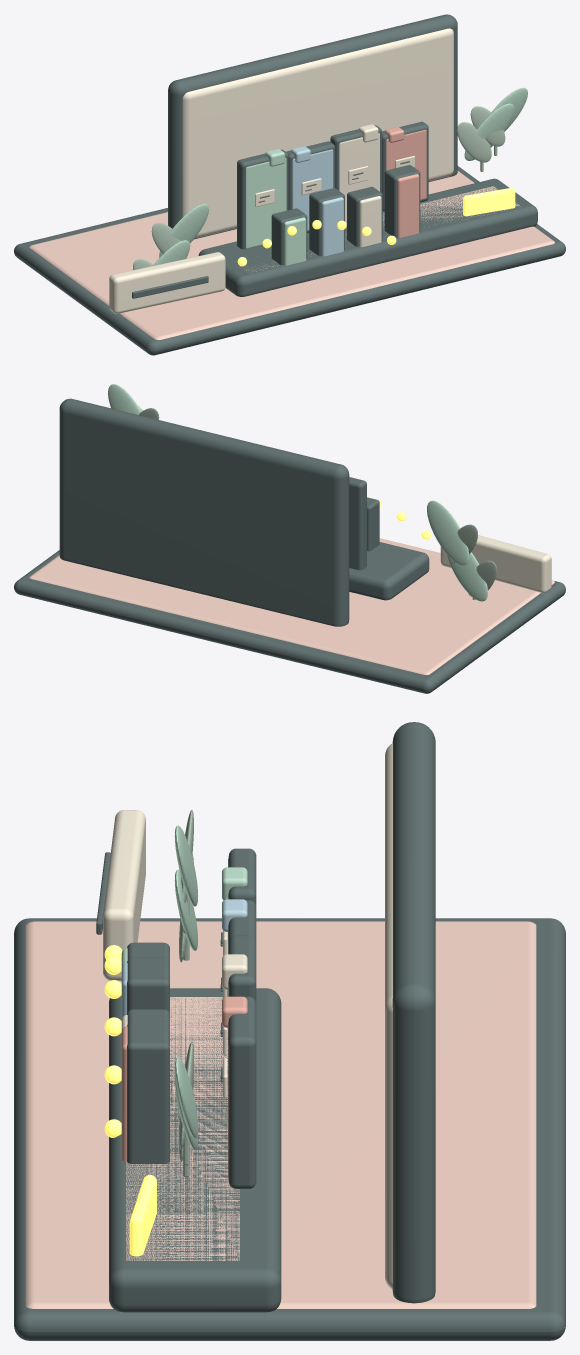
Rendered from hero-memory-terrarium.glb.
3 views of the same model, one above another, from view 1: azimuth 30°, elevation 25°; view 2: azimuth 150°, elevation 25°; view 3: azimuth 270°, elevation 25° (orthographic). The views are drawn at different scales.
Parts seen in each view (by area): view 1: hero back wall, hero peach slab, hero lower tray outline, hero peach slab outline, hero back wall outline, hero command card, hero memory card 0 folder, hero memory card 2 folder, hero memory card 1 folder, hero front file 3, hero memory card 3 folder, hero front file 1 (+20 smaller); view 2: hero back wall outline, hero peach slab, hero peach slab outline, hero lower tray outline, hero command card, hero memory card 0 outline, hero paper leaf 2a, hero paper leaf 3a, hero front file 0 outline, hero paper leaf 1a, hero paper leaf 3b, hero paper leaf 2b; view 3: hero peach slab, hero peach slab outline, hero lower tray outline, hero back wall outline, hero lower tray, hero front file 3 outline, hero memory card 3 outline, hero command card, hero back wall, hero front file 1 outline, hero AGENTS key tag, hero memory card 2 outline (+5 smaller).
Boxes of the visible parts, x1,y1,x2,y2 form: hero back wall: (182,28,453,238); hero peach slab: (29,171,554,339); hero lower tray outline: (198,178,537,296); hero peach slab outline: (14,166,565,355); hero back wall outline: (168,14,457,239); hero command card: (109,252,225,313); hero memory card 0 folder: (246,157,286,248); hero memory card 2 folder: (339,133,379,224); hero memory card 1 folder: (292,149,333,230); hero front file 3: (397,174,419,237); hero memory card 3 folder: (386,129,426,199); hero front file 1: (321,197,343,256); hero back wall outline: (59,398,349,626); hero peach slab: (29,538,554,674); hero peach slab outline: (14,550,565,693); hero lower tray outline: (349,542,429,600); hero command card: (440,535,551,593); hero memory card 0 outline: (349,477,366,570); hero paper leaf 2a: (427,500,469,565); hero paper leaf 3a: (447,552,487,601); hero front file 0 outline: (367,497,379,551); hero paper leaf 1a: (108,384,141,414); hero paper leaf 3b: (468,560,496,596); hero paper leaf 2b: (457,524,477,554); hero peach slab: (25,921,536,1308); hero peach slab outline: (14,918,565,1340); hero lower tray outline: (109,988,281,1312); hero back wall outline: (392,722,435,1303); hero lower tray: (126,997,239,1260); hero front file 3 outline: (127,1021,169,1163); hero memory card 3 outline: (228,996,256,1188); hero command card: (103,810,145,981); hero back wall: (385,743,392,1289); hero front file 1 outline: (127,957,169,1013); hero AGENTS key tag: (129,1175,156,1256); hero memory card 2 outline: (228,935,256,1002).
Bounding box in the file's own units: 5.69 × 2.19 × 3.2.
